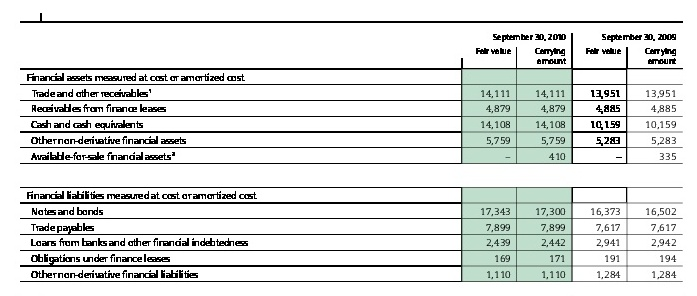table: (0, 0, 697, 296)
